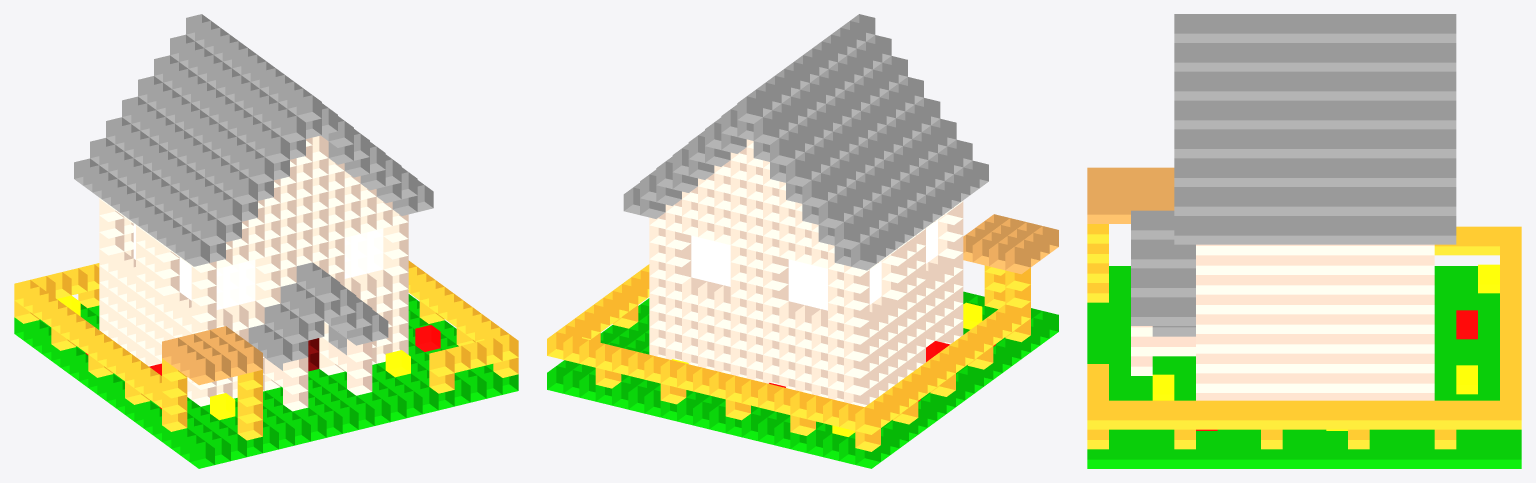
The model's file is living_room.gltf.
The picture shows the model from 3 angles, left to right: view 1: azimuth 30°, elevation 25°; view 2: azimuth 150°, elevation 25°; view 3: azimuth 270°, elevation 25°; orthographic projection. The views are drawn at different scales.
Parts seen in each view (by area): view 1: voxel_1, voxel_148, voxel_158, voxel_166, voxel_348, voxel_125, voxel_174, voxel_65, voxel_126, voxel_151, voxel_154, voxel_32 (+6 smaller); view 2: voxel_1017, voxel_1037, voxel_1025, voxel_112, voxel_1029, voxel_1033, voxel_1021, voxel_1041, voxel_1131, voxel_1014; view 3: voxel_549, voxel_553, voxel_576, voxel_101, voxel_1018, voxel_1026, voxel_1042, voxel_105, voxel_121, voxel_383, voxel_387, voxel_432 (+198 smaller).
Part boxes in pixels (x1,y1,x2,y2): voxel_1: (189,358,214,385); voxel_148: (296,95,321,122); voxel_158: (248,157,273,184); voxel_166: (216,198,241,225); voxel_348: (415,325,440,351); voxel_125: (385,350,410,377); voxel_174: (184,239,209,266); voxel_65: (283,317,308,344); voxel_126: (210,393,235,420); voxel_151: (280,115,305,142); voxel_154: (264,136,289,163); voxel_32: (189,441,214,468); voxel_1017: (753,117,779,144); voxel_1037: (834,222,860,249); voxel_1025: (786,159,811,186); voxel_112: (1005,246,1030,274); voxel_1029: (802,180,827,207); voxel_1033: (818,201,843,228); voxel_1021: (770,138,795,165); voxel_1041: (851,243,876,270); voxel_1131: (855,407,880,434); voxel_1014: (737,96,762,123); voxel_549: (1282,71,1304,100); voxel_553: (1282,129,1304,158); voxel_576: (1282,400,1304,429); voxel_101: (1152,210,1174,239); voxel_1018: (1434,71,1456,100); voxel_1026: (1434,129,1456,158); voxel_1042: (1434,400,1456,429); voxel_105: (1152,268,1174,297); voxel_121: (1152,400,1174,429); voxel_383: (1217,71,1239,100); voxel_387: (1217,129,1239,158); voxel_432: (1217,400,1239,429).
Size of the model in its own units: 10.53 by 9.47 by 10.53.
